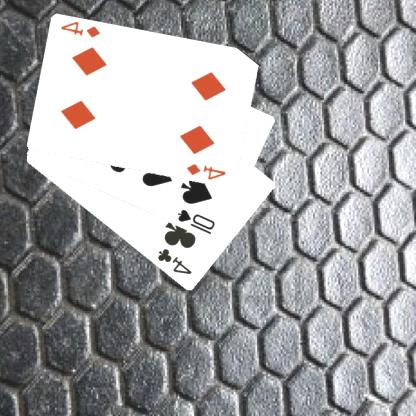10S: (176, 207, 219, 236)
4C: (157, 245, 195, 277)
4D: (186, 160, 229, 182), (60, 20, 104, 39)
